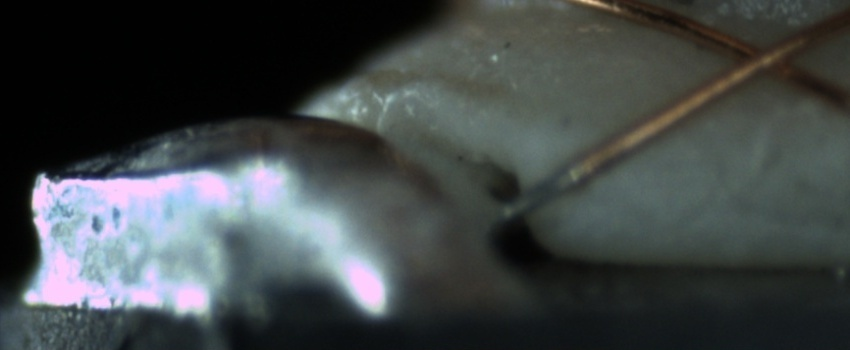CL: (712, 25, 814, 91)
TS: (503, 159, 588, 219)
TTCW: (511, 145, 606, 218)
